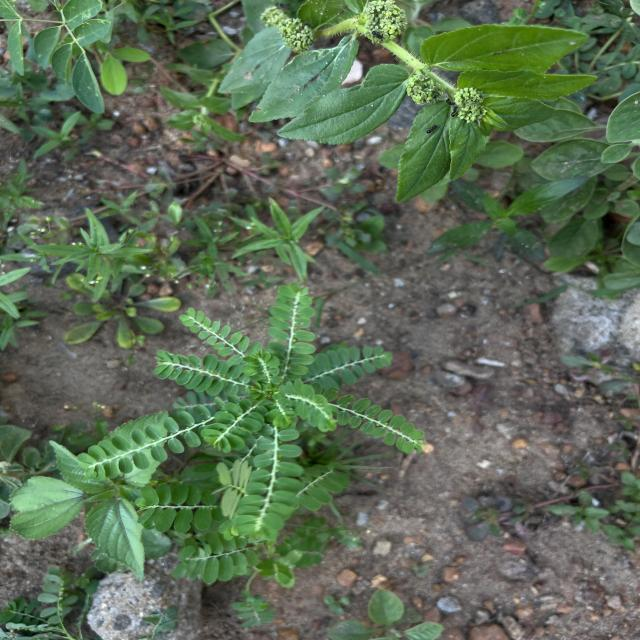Phyllanthus niruri: (74, 410, 203, 486), (230, 428, 306, 542), (334, 392, 428, 455), (266, 282, 318, 377), (150, 350, 250, 398), (200, 397, 270, 455), (175, 305, 252, 357), (274, 378, 343, 433), (313, 343, 398, 386)
